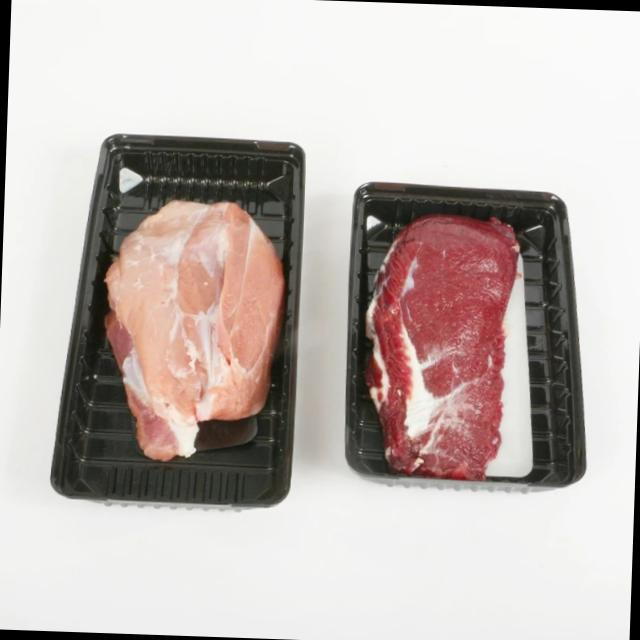pork: (58, 133, 310, 508), (360, 195, 568, 510)
